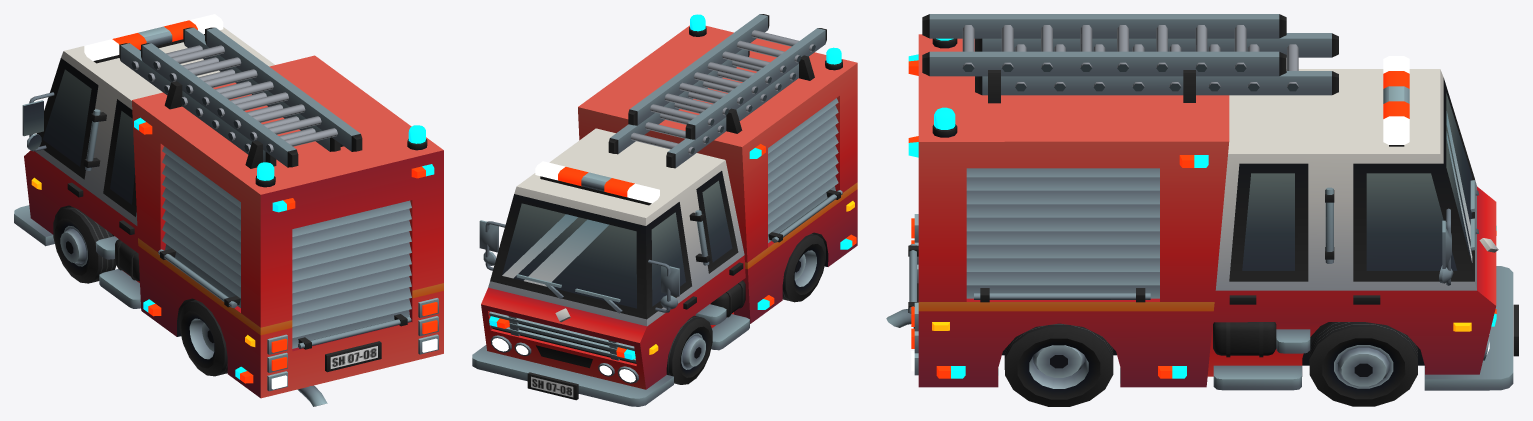
The model's file is fire_engine.glb.
The picture shows the model from 3 angles, left to right: view 1: azimuth 30°, elevation 25°; view 2: azimuth 150°, elevation 25°; view 3: azimuth 270°, elevation 25°; orthographic projection. The views are drawn at different scales.
Parts seen in each view (by area): view 1: fire_engine; view 2: fire_engine; view 3: fire_engine.
Part boxes in pixels (left/top/right/bottom): fire_engine: left=14, top=14, right=443, bottom=406; fire_engine: left=472, top=14, right=857, bottom=406; fire_engine: left=886, top=14, right=1518, bottom=406.
Size of the model in its own units: 3.22 by 3.49 by 6.6.
Materials: 2 (2 with a texture image).
